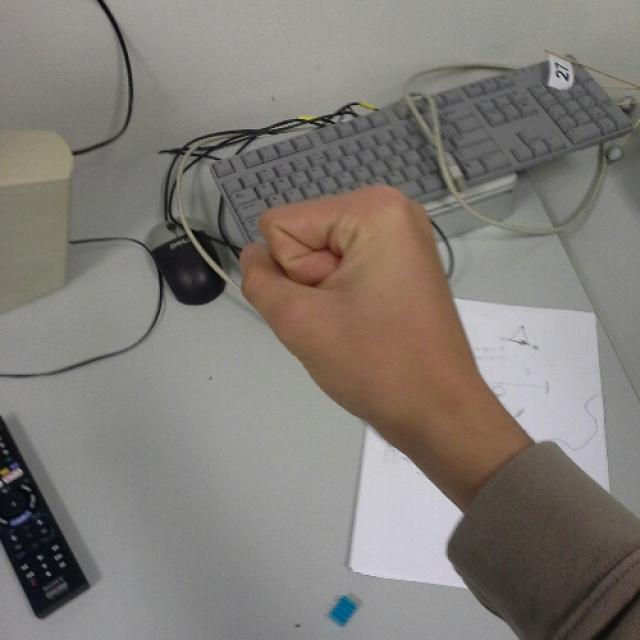rock: (242, 185, 450, 427)
